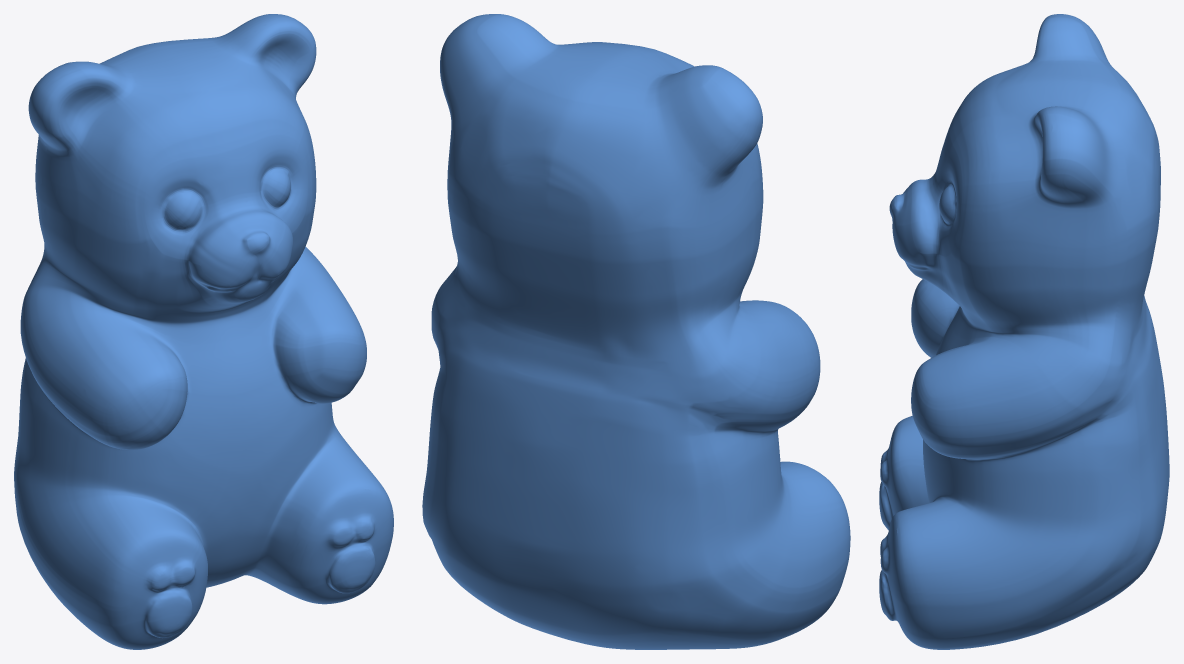
Rendered from Blue.fbx.
3 views of the same model, side by side, from view 1: azimuth 30°, elevation 25°; view 2: azimuth 150°, elevation 25°; view 3: azimuth 270°, elevation 25° (orthographic). The views are drawn at different scales.
Parts seen in each view (by area): view 1: bHP8; view 2: bHP8; view 3: bHP8.
Part boxes in pixels (x1=…): bHP8: x1=14, y1=14, x2=393, y2=649; bHP8: x1=422, y1=14, x2=850, y2=649; bHP8: x1=879, y1=14, x2=1169, y2=649.
Bounding box in the file's own units: 5.54 × 9.18 × 4.54.
